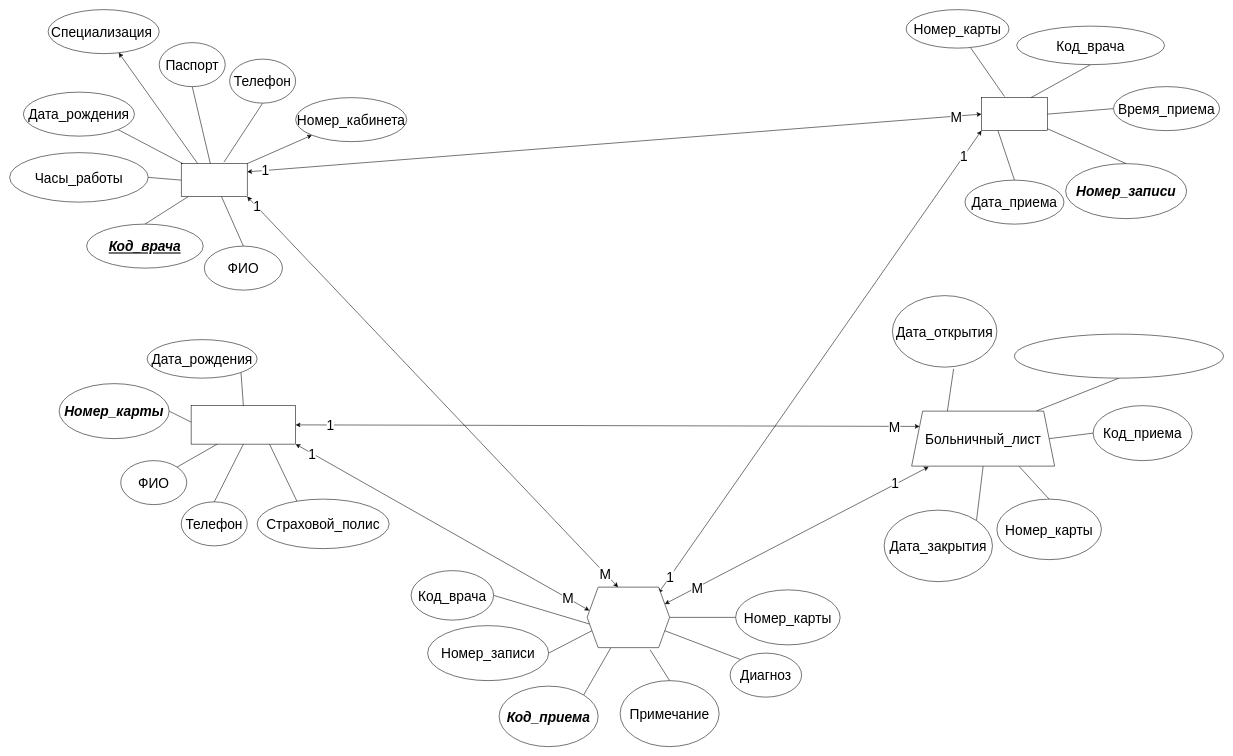
Some shapes in this 1233 by 756 pixel diagram are drawn without their labels. The shapes that lost their labels are listed below. From the top down, each one's box as (x1, y1, x2, y2) in pixels, then its label:
(981, 97, 1047, 131): Запись
(181, 163, 247, 197): Врач
(1014, 334, 1223, 378): Номер_больничного_листа
(191, 405, 296, 444): Пациент
(587, 587, 670, 648): Прием
